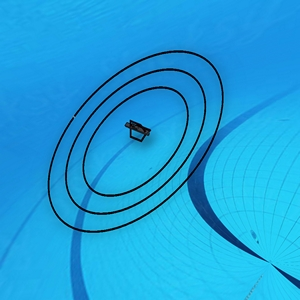circle: (44, 37, 229, 245)
submarine: (124, 118, 154, 146)
